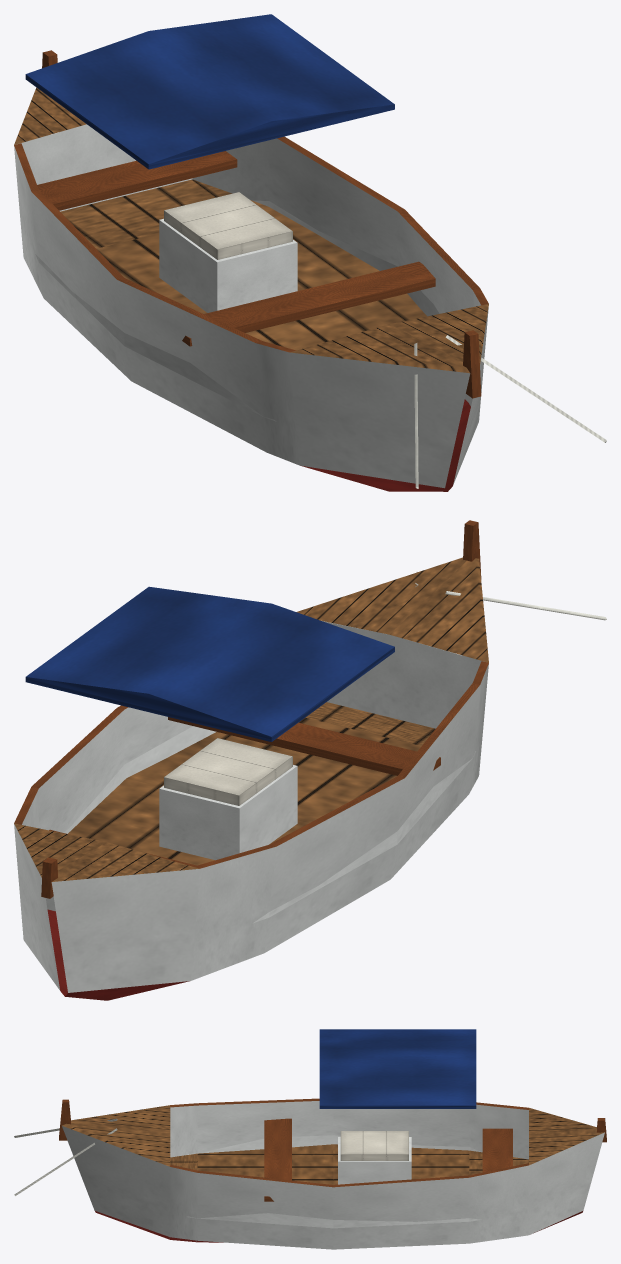
Rendered from SM_Morin_Barca_Gozzo_FasciaAzzurra_Prua_LOD2.fbx.
The picture shows the model from 3 angles, top to bottom: view 1: azimuth 30°, elevation 25°; view 2: azimuth 150°, elevation 25°; view 3: azimuth 270°, elevation 25°; orthographic projection. The views are drawn at different scales.
Visible parts, largest first — view 1: SM_Morin_Barca_Gozzo_FasciaAzzurra_Prua_LOD2; view 2: SM_Morin_Barca_Gozzo_FasciaAzzurra_Prua_LOD2; view 3: SM_Morin_Barca_Gozzo_FasciaAzzurra_Prua_LOD2.
Boxes of the visible parts, x1,y1,x2,y2 form: SM_Morin_Barca_Gozzo_FasciaAzzurra_Prua_LOD2: (14,14,606,491); SM_Morin_Barca_Gozzo_FasciaAzzurra_Prua_LOD2: (14,520,606,1000); SM_Morin_Barca_Gozzo_FasciaAzzurra_Prua_LOD2: (14,1029,606,1249).
Bounding box in the file's own units: 229 × 644 × 222.
1 material, 1 textured.
